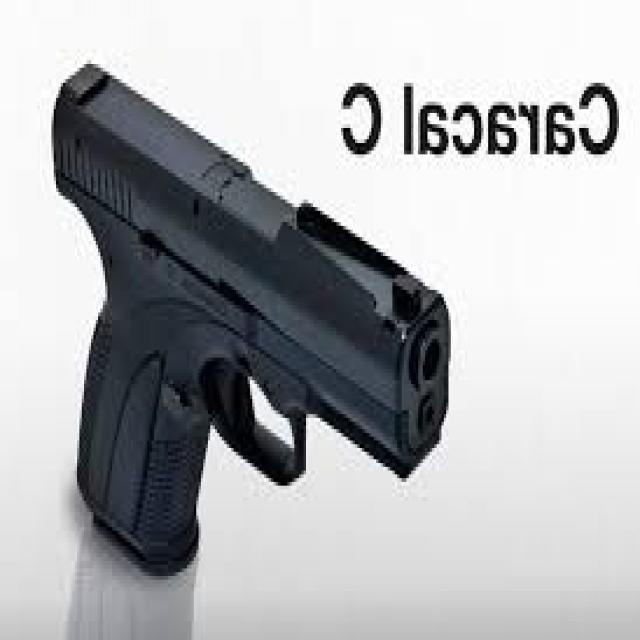Gun: (12, 59, 464, 560)
